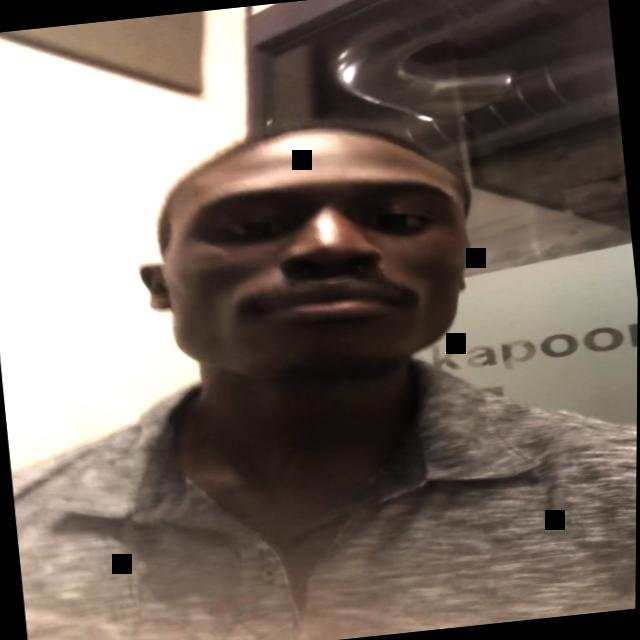NO-Mask: (154, 139, 486, 394)
